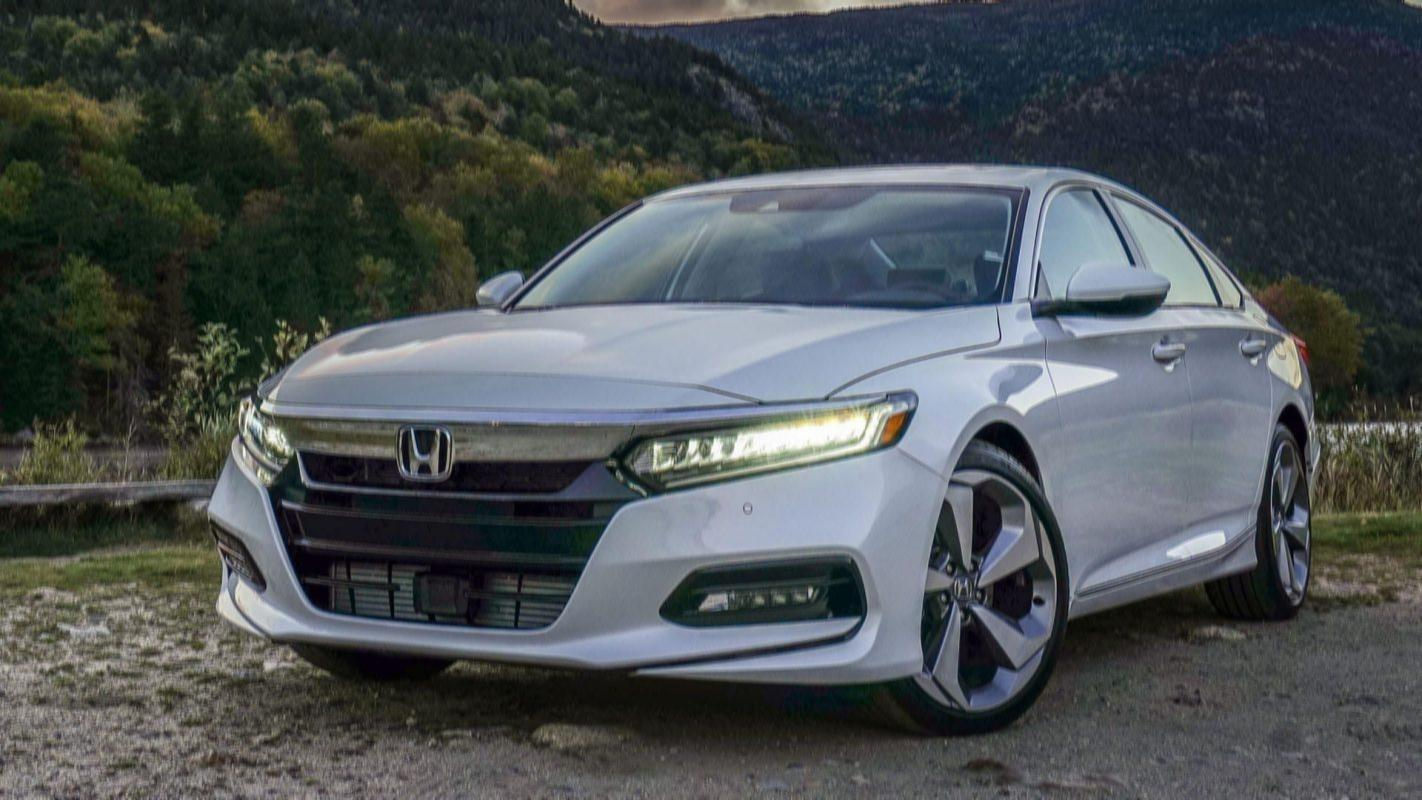Car hood: (254, 301, 1007, 433)
Fender - -F-L-: (830, 303, 1071, 550)
Front bumper: (201, 448, 952, 701)
Headlight - -L-: (611, 390, 918, 501)
Headlight - -R-: (235, 393, 294, 492)
Passenger-s door - -F-L-: (1019, 153, 1213, 636)
Passenger-s door - -R-L-: (1104, 148, 1285, 634)
Side bumper - -L-: (1071, 509, 1268, 660)
Side mirror - -L-: (1028, 261, 1173, 321)
Side mirror - -R-: (472, 261, 530, 312)
